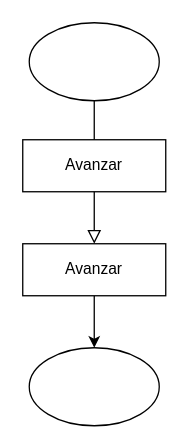
This 189x448 diagram has some shape labels left out. The centre of each missing label's shape, as x and y in pixels:
"Fin" belongs at (93,386).
"Inicio" belongs at (93,61).
